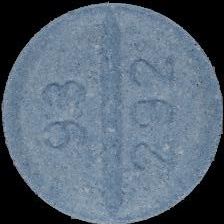54868-2866: (0, 0, 224, 224)
